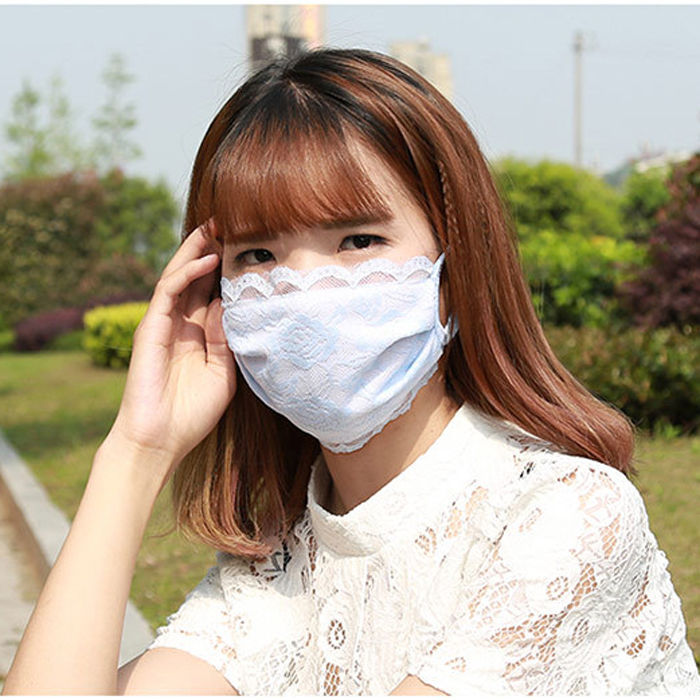face_mask: (219, 131, 442, 444)
